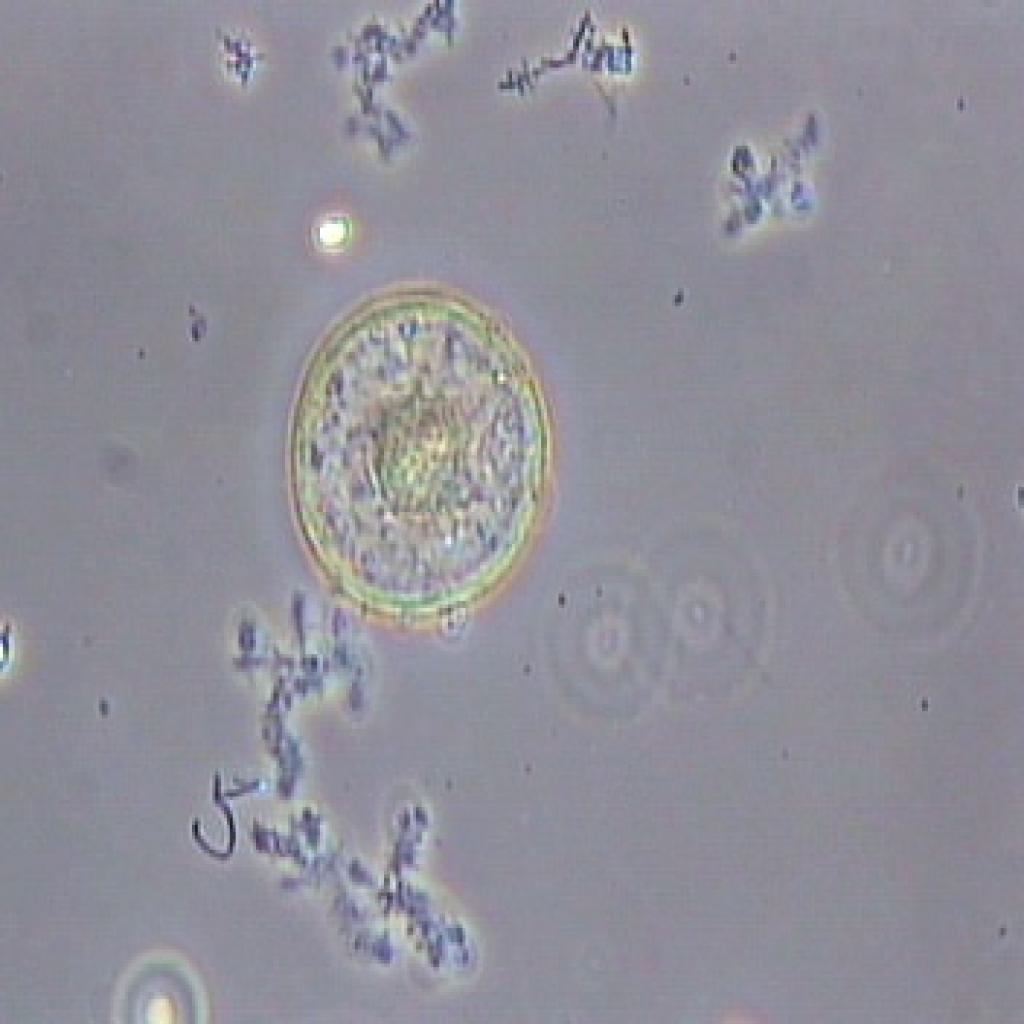Arcella: (257, 260, 566, 644)
